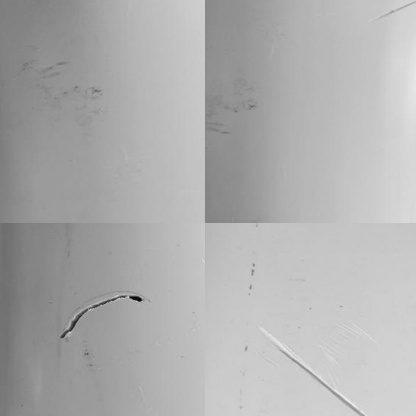fengxi: (55, 292, 149, 342)
sunshang: (258, 325, 362, 412)
